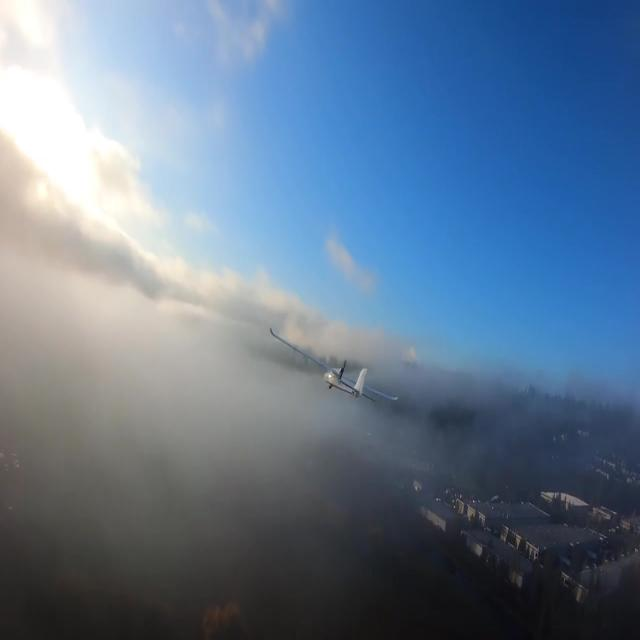iha: (268, 358, 398, 371)
